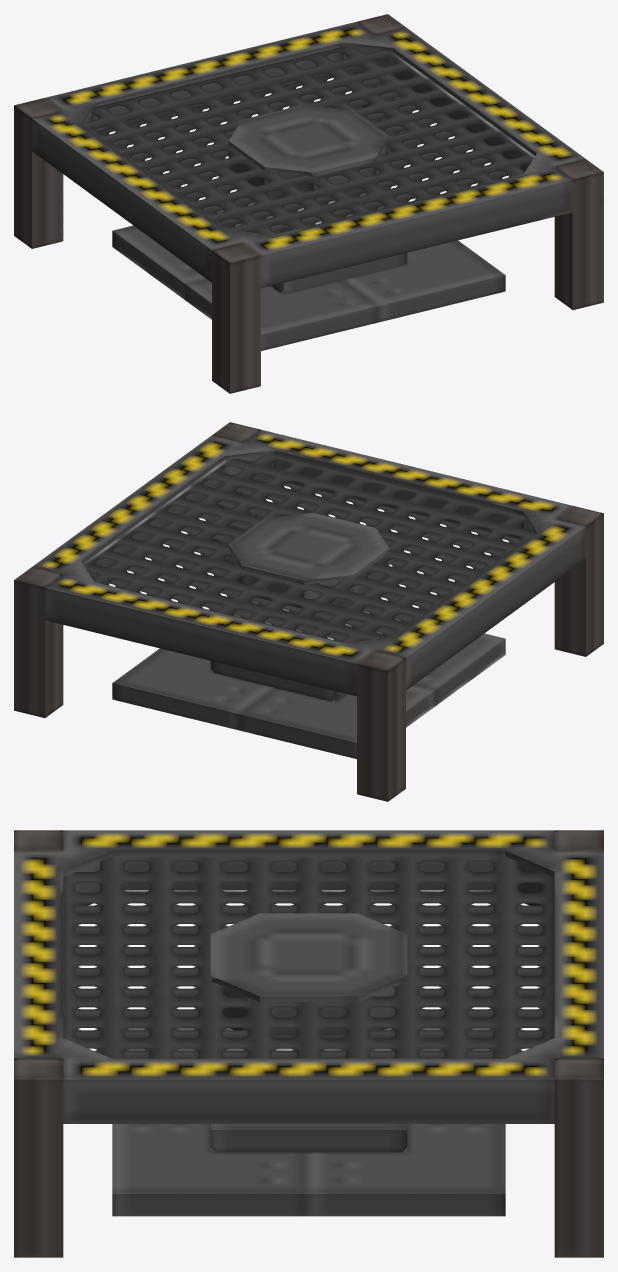
Rendered from cargo_elevator.obj.
The picture shows the model from 3 angles, top to bottom: view 1: azimuth 30°, elevation 25°; view 2: azimuth 150°, elevation 25°; view 3: azimuth 270°, elevation 25°; orthographic projection. The views are drawn at different scales.
Visible parts, largest first — view 1: Platform, Guides, Base; view 2: Platform, Guides, Base; view 3: Platform, Base, Guides.
Boxes of the visible parts, x1,y1,x2,y2 form: Platform: (32, 21, 585, 288); Guides: (14, 14, 603, 393); Base: (112, 193, 505, 350); Platform: (32, 429, 585, 696); Guides: (14, 422, 603, 801); Base: (112, 601, 505, 758); Platform: (14, 830, 603, 1123); Base: (112, 1028, 505, 1216); Guides: (14, 830, 603, 1257).
Bounding box in the file's own units: 3 × 1.25 × 3.
